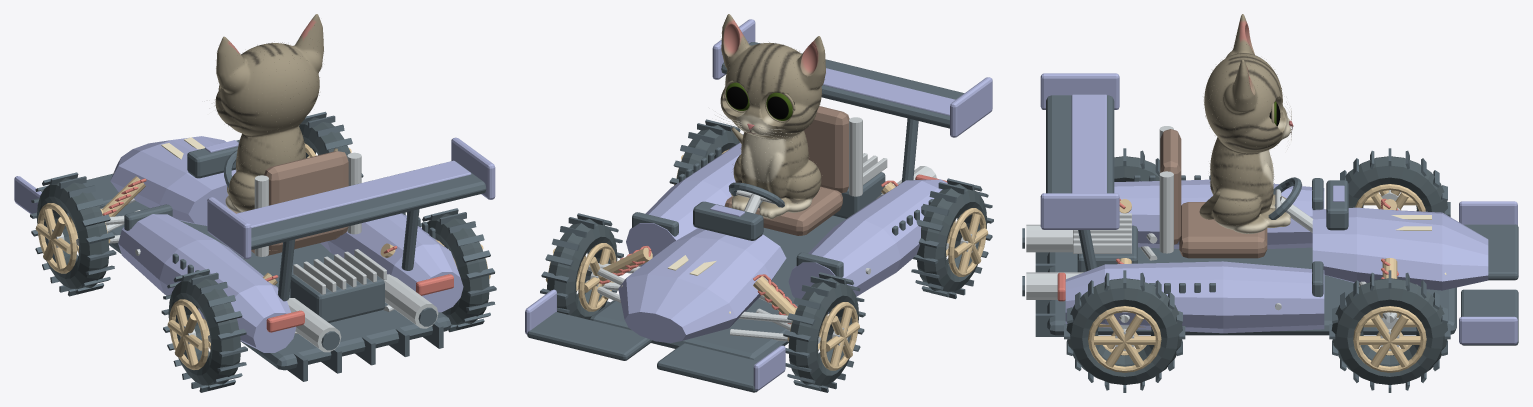
The model's file is gulu_kart.glb.
3 views of the same model, side by side, from view 1: azimuth 30°, elevation 25°; view 2: azimuth 150°, elevation 25°; view 3: azimuth 270°, elevation 25° (orthographic). The views are drawn at different scales.
Visible parts, largest first — view 1: Continuous feline anatomy, Radiator sidepod, Undertray, Long sculpted nose, Rear aerofoil, Radiator sidepod.001, Rear wing enamel, Profiled racing tyre, Profiled racing tyre.001, Seat back, Profiled racing tyre.003, Engine block (+20 smaller); view 2: Continuous feline anatomy, Long sculpted nose, Radiator sidepod, Undertray, Radiator sidepod.001, Profiled racing tyre, Profiled racing tyre.001, Front wing.001, Rear aerofoil, Seat back, Profiled racing tyre.002, Front wing (+23 smaller); view 3: Continuous feline anatomy, Radiator sidepod.001, Long sculpted nose, Profiled racing tyre.002, Profiled racing tyre.003, Undertray, Radiator sidepod, Rear wing enamel, Rear aerofoil, Bucket seat, Profiled racing tyre, Wing endplate.002 (+18 smaller).
Boxes of the visible parts, bbox=[...] form: Continuous feline anatomy: bbox=[215, 14, 323, 212]; Radiator sidepod: bbox=[118, 214, 296, 352]; Undertray: bbox=[108, 201, 451, 370]; Long sculpted nose: bbox=[110, 136, 236, 225]; Rear aerofoil: bbox=[251, 161, 486, 249]; Radiator sidepod.001: bbox=[320, 213, 463, 312]; Rear wing enamel: bbox=[236, 160, 471, 227]; Profiled racing tyre: bbox=[36, 178, 109, 289]; Profiled racing tyre.001: bbox=[168, 274, 240, 385]; Seat back: bbox=[264, 151, 348, 250]; Profiled racing tyre.003: bbox=[427, 214, 489, 325]; Engine block: bbox=[290, 274, 384, 322]; Continuous feline anatomy: bbox=[720, 14, 825, 219]; Long sculpted nose: bbox=[618, 228, 786, 343]; Radiator sidepod: bbox=[788, 179, 947, 313]; Undertray: bbox=[590, 215, 845, 360]; Radiator sidepod.001: bbox=[626, 142, 741, 266]; Profiled racing tyre: bbox=[788, 277, 858, 385]; Profiled racing tyre.001: bbox=[917, 184, 987, 292]; Front wing.001: bbox=[527, 312, 652, 360]; Rear aerofoil: bbox=[721, 42, 964, 128]; Seat back: bbox=[804, 106, 849, 193]; Profiled racing tyre.002: bbox=[547, 219, 617, 319]; Front wing: bbox=[657, 343, 758, 392]; Continuous feline anatomy: bbox=[1204, 14, 1290, 233]; Radiator sidepod.001: bbox=[1065, 261, 1324, 333]; Long sculpted nose: bbox=[1312, 207, 1488, 290]; Profiled racing tyre.002: bbox=[1331, 278, 1447, 384]; Profiled racing tyre.003: bbox=[1066, 278, 1182, 384]; Undertray: bbox=[1047, 247, 1456, 335]; Radiator sidepod: bbox=[1114, 179, 1324, 248]; Rear wing enamel: bbox=[1071, 94, 1106, 193]; Rear aerofoil: bbox=[1046, 95, 1114, 193]; Bucket seat: bbox=[1179, 202, 1267, 258]; Profiled racing tyre: bbox=[1345, 156, 1447, 213]; Wing endplate.002: bbox=[1040, 193, 1119, 229].
Size of the model in its own units: 2.59 by 2.43 by 3.78.
14 materials, 2 textured.
